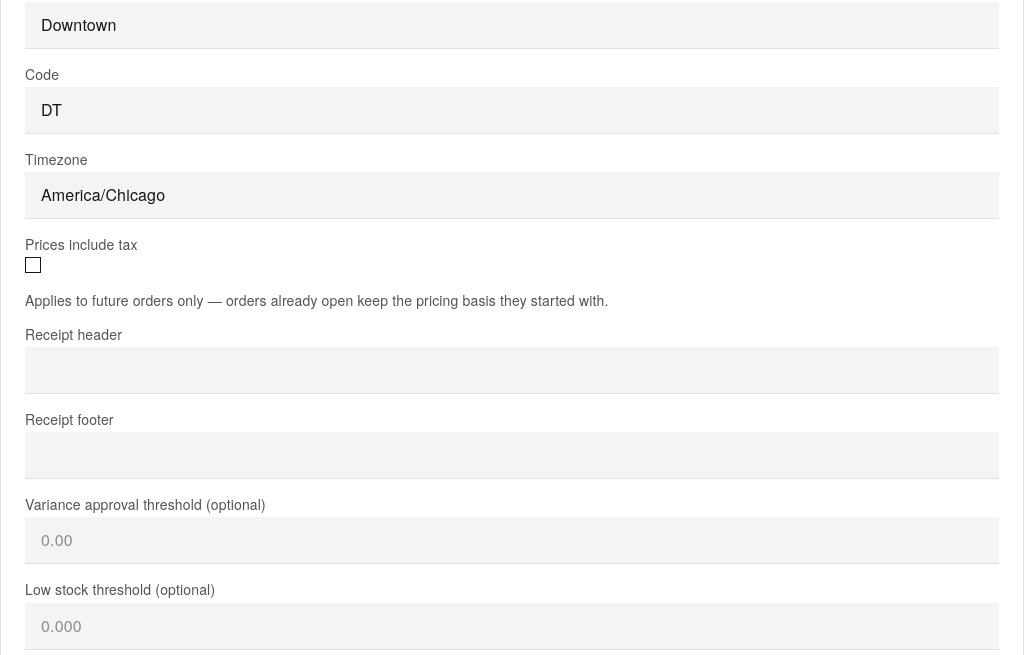
Test case: LocationEditor › blocks save on a non-numeric low-stock threshold
In the field labelled "Low stock threshold (optional)": coordinates (512, 626) [25,602,999,650], type "low"
(page scrolled)
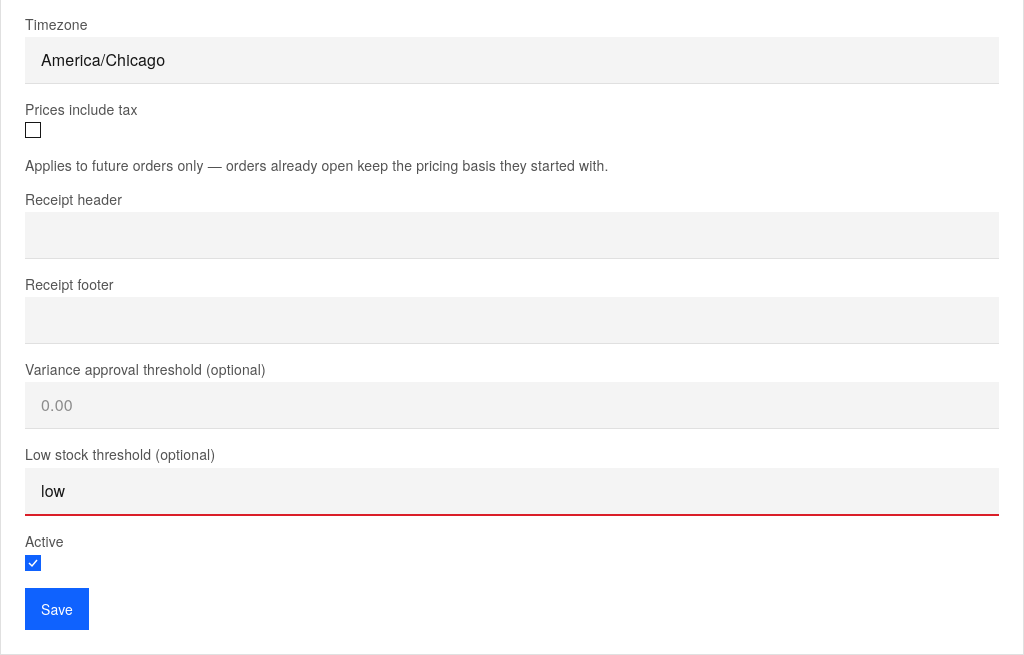
Click the button "Save": coordinates (57, 609) [25,588,89,630]
(page scrolled)
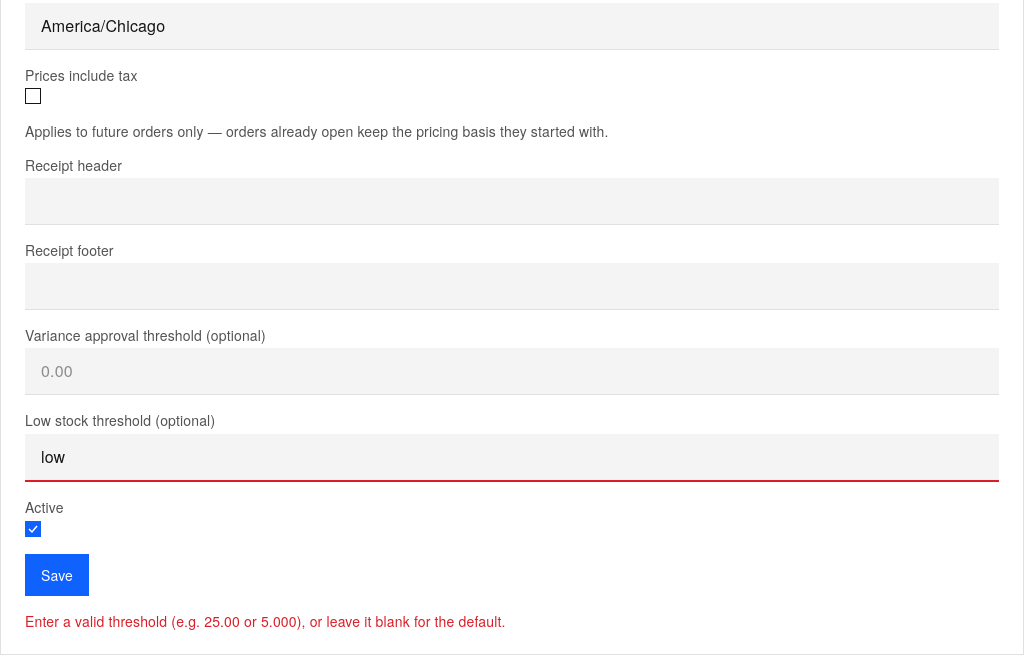
Result: the text "Enter a valid threshold" is shown at [25,611,506,631]
